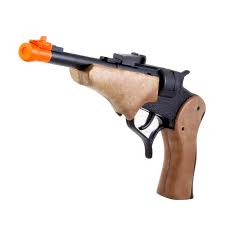gun: (18, 34, 208, 202)
